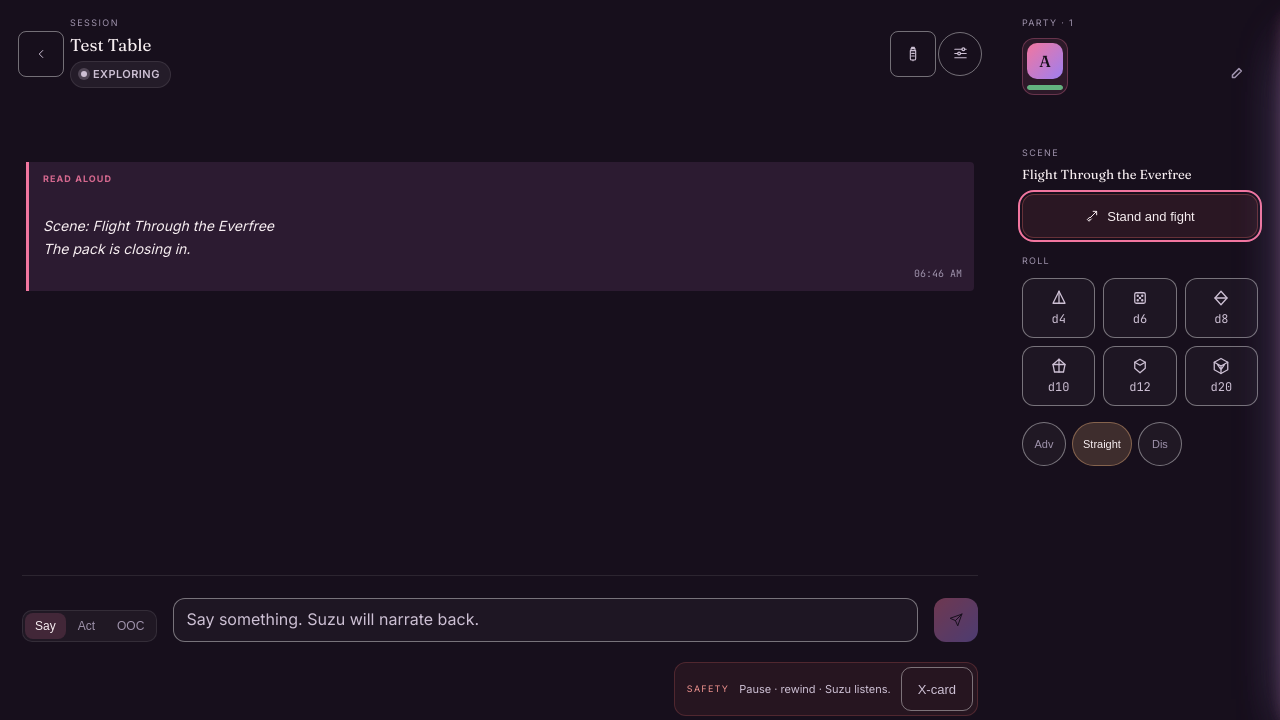
Iro-A11y CRITICAL-1 — falling-edge focus recovery when the button unmounts itself › moves focus to the scene heading when the button's own successful click unmounts it
Check: the text "Test Table" is shown, box [70,34,151,54]
Click the button "Stand and fight".
click(1140, 216)  # box [1022,194,1258,238]
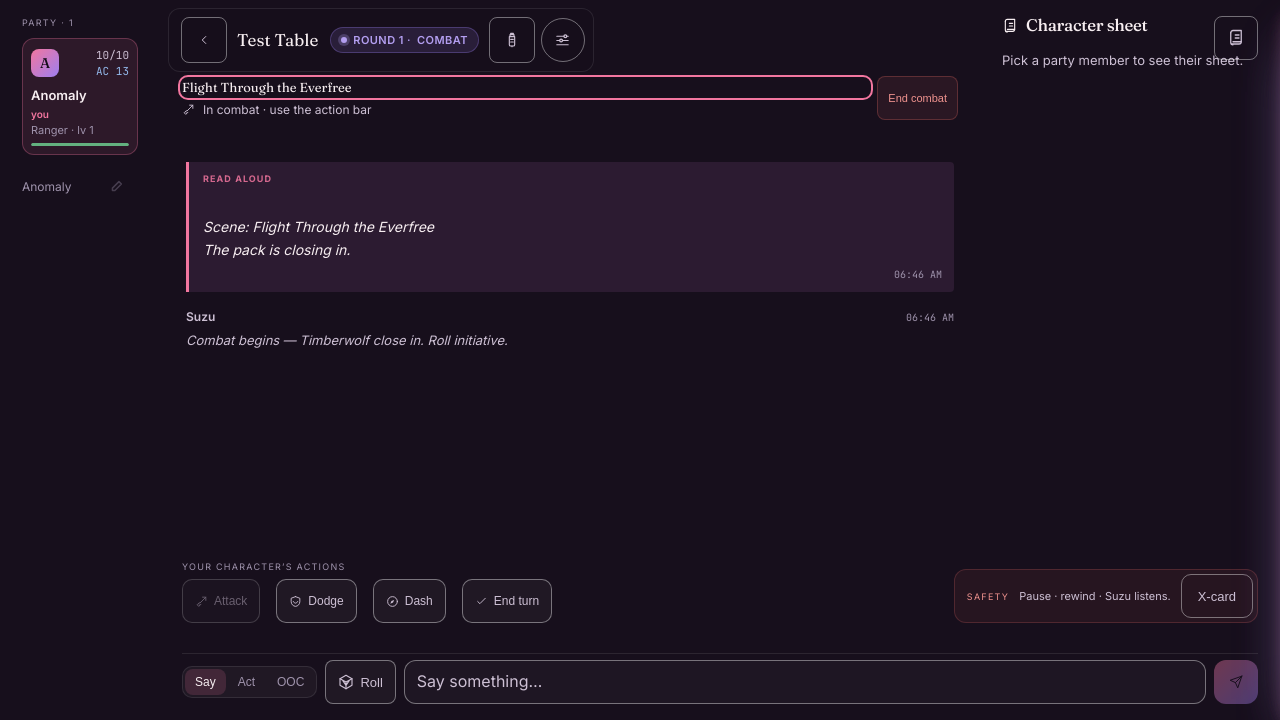
Check: the element showing "Flight Through the Everfree" is shown, box [182,79,352,95]
Check: the button "Stand and fight" is gone
